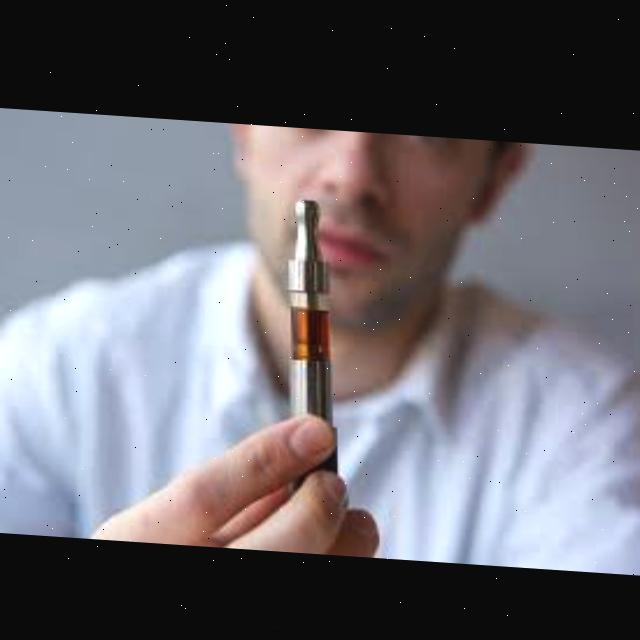vape: (286, 191, 338, 414)
